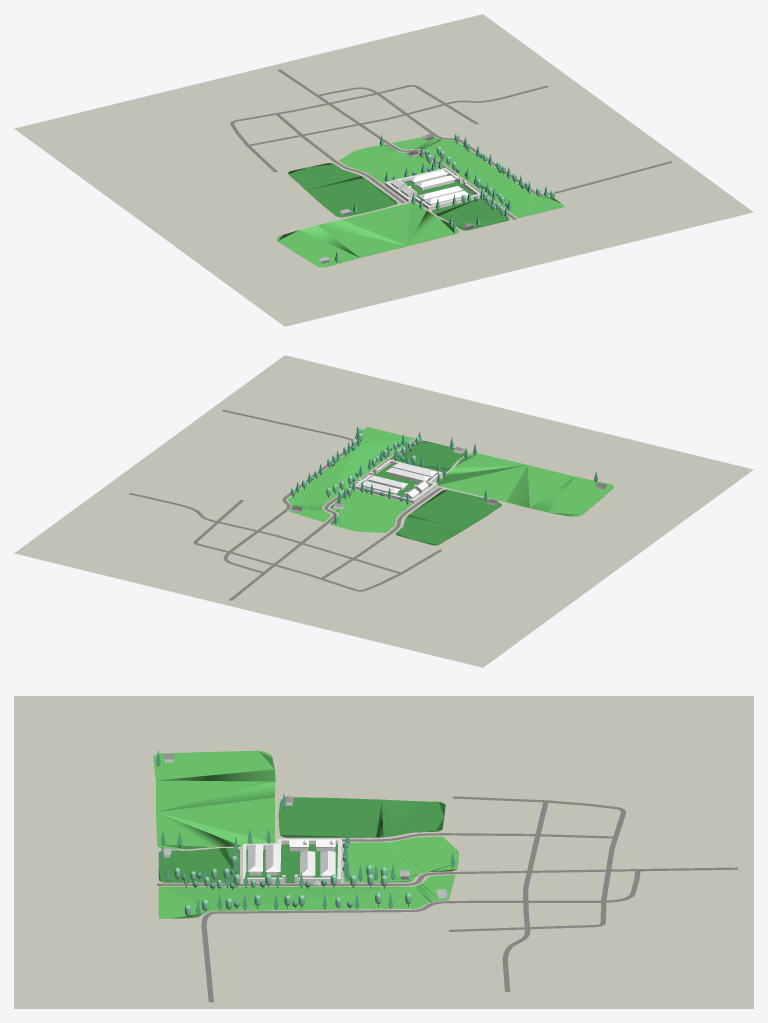
The model's file is cropland.fbx.
The picture shows the model from 3 angles, top to bottom: view 1: azimuth 30°, elevation 25°; view 2: azimuth 150°, elevation 25°; view 3: azimuth 270°, elevation 25°; orthographic projection. The views are drawn at different scales.
Parts seen in each view (by area): view 1: 地面, W_test_B_6, E_test_B_1, W_test_B_3, W_test_B_4, 路3, 路2, W_test_B_7, N_wall_1; view 2: 地面, W_test_B_6, E_test_B_1, W_test_B_3, W_test_B_4, 路3, 路2, W_test_B_7, N_wall_1; view 3: 地面, W_test_B_6, E_test_B_1, W_test_B_3, W_test_B_4, 路3, 路2, W_test_B_7, N_earth_1, N_wall_1.
Boxes of the visible parts, left/top/right/bottom form: 地面: left=14, top=14, right=753, bottom=326; W_test_B_6: left=276, top=202, right=458, bottom=267; E_test_B_1: left=392, top=133, right=564, bottom=218; W_test_B_3: left=287, top=163, right=397, bottom=217; W_test_B_4: left=339, top=144, right=441, bottom=184; 路3: left=248, top=85, right=672, bottom=203; 路2: left=230, top=69, right=516, bottom=219; W_test_B_7: left=432, top=198, right=509, bottom=230; N_wall_1: left=385, top=168, right=480, bottom=209; 地面: left=14, top=355, right=753, bottom=667; W_test_B_6: left=435, top=453, right=614, bottom=516; E_test_B_1: left=287, top=427, right=414, bottom=522; W_test_B_3: left=395, top=489, right=501, bottom=545; W_test_B_4: left=330, top=490, right=412, bottom=532; 路3: left=128, top=409, right=441, bottom=578; 路2: left=193, top=439, right=442, bottom=600; W_test_B_7: left=393, top=440, right=465, bottom=473; N_wall_1: left=355, top=459, right=442, bottom=503; 地面: left=14, top=696, right=753, bottom=1008; W_test_B_6: left=153, top=750, right=275, bottom=849; E_test_B_1: left=158, top=875, right=455, bottom=918; W_test_B_3: left=278, top=796, right=445, bottom=837; W_test_B_4: left=343, top=836, right=459, bottom=882; 路3: left=201, top=801, right=640, bottom=1002; 路2: left=157, top=796, right=737, bottom=931; W_test_B_7: left=158, top=848, right=239, bottom=882; N_earth_1: left=246, top=844, right=337, bottom=882; N_wall_1: left=243, top=839, right=341, bottom=882.
Size of the model in its own units: 400 by 11.35 by 400.
